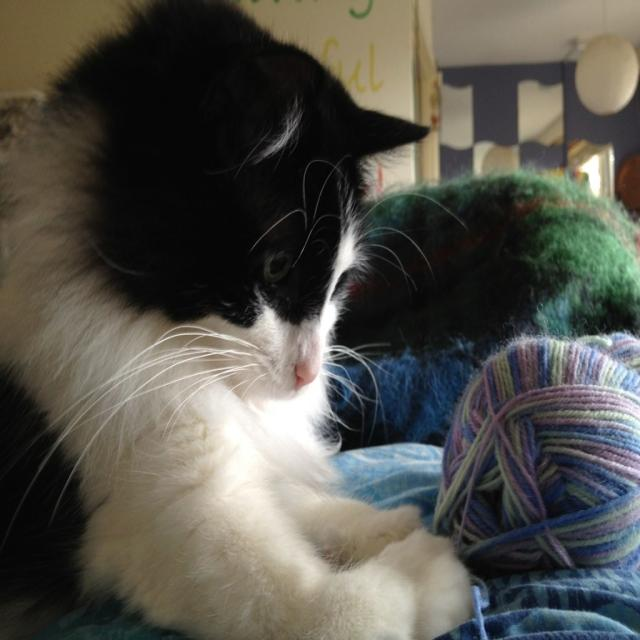Cat: (0, 0, 473, 638)
